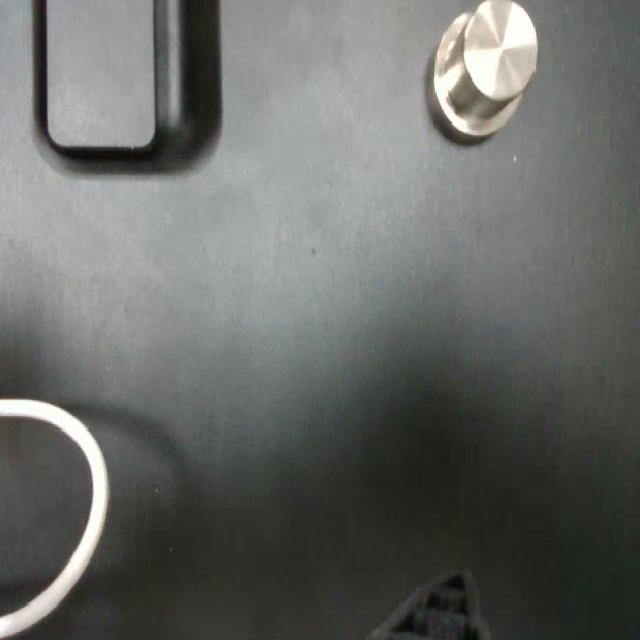sensor: (429, 0, 537, 138)
